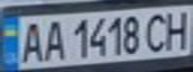1: (66, 16, 90, 60), (106, 14, 127, 56)
4: (87, 14, 109, 57)
8: (121, 11, 145, 55)
A: (15, 19, 48, 64), (39, 17, 69, 62)
C: (142, 10, 172, 53)
H: (160, 7, 193, 52)
